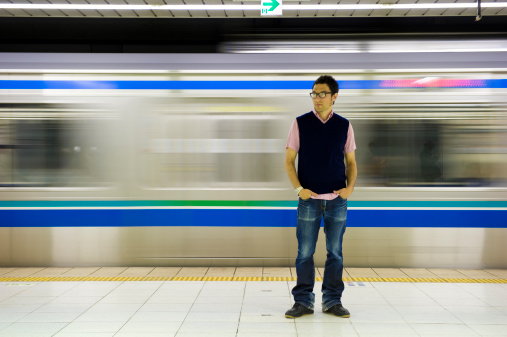em pe: (276, 58, 368, 308)
